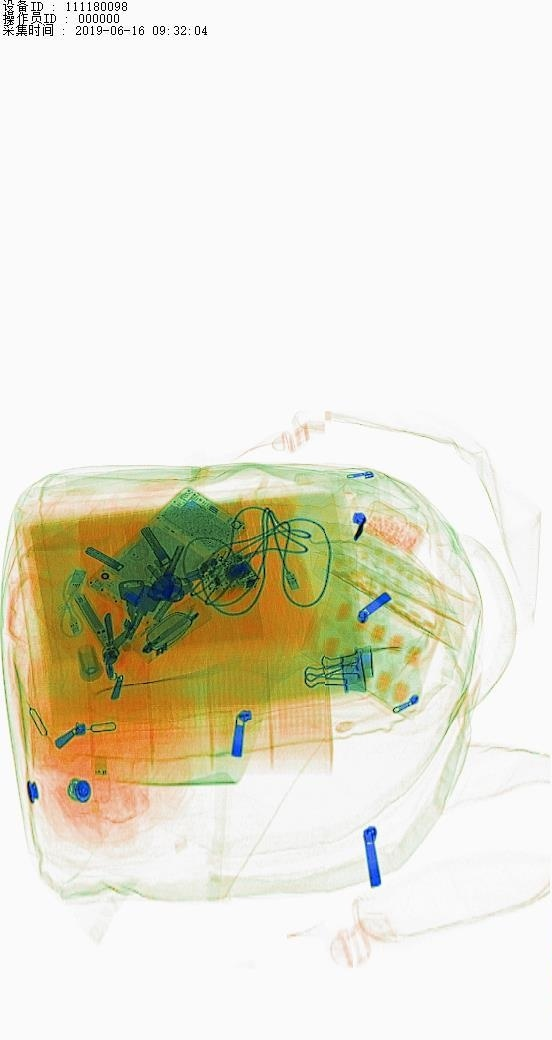NonmetallicFire: (66, 585, 131, 673)
